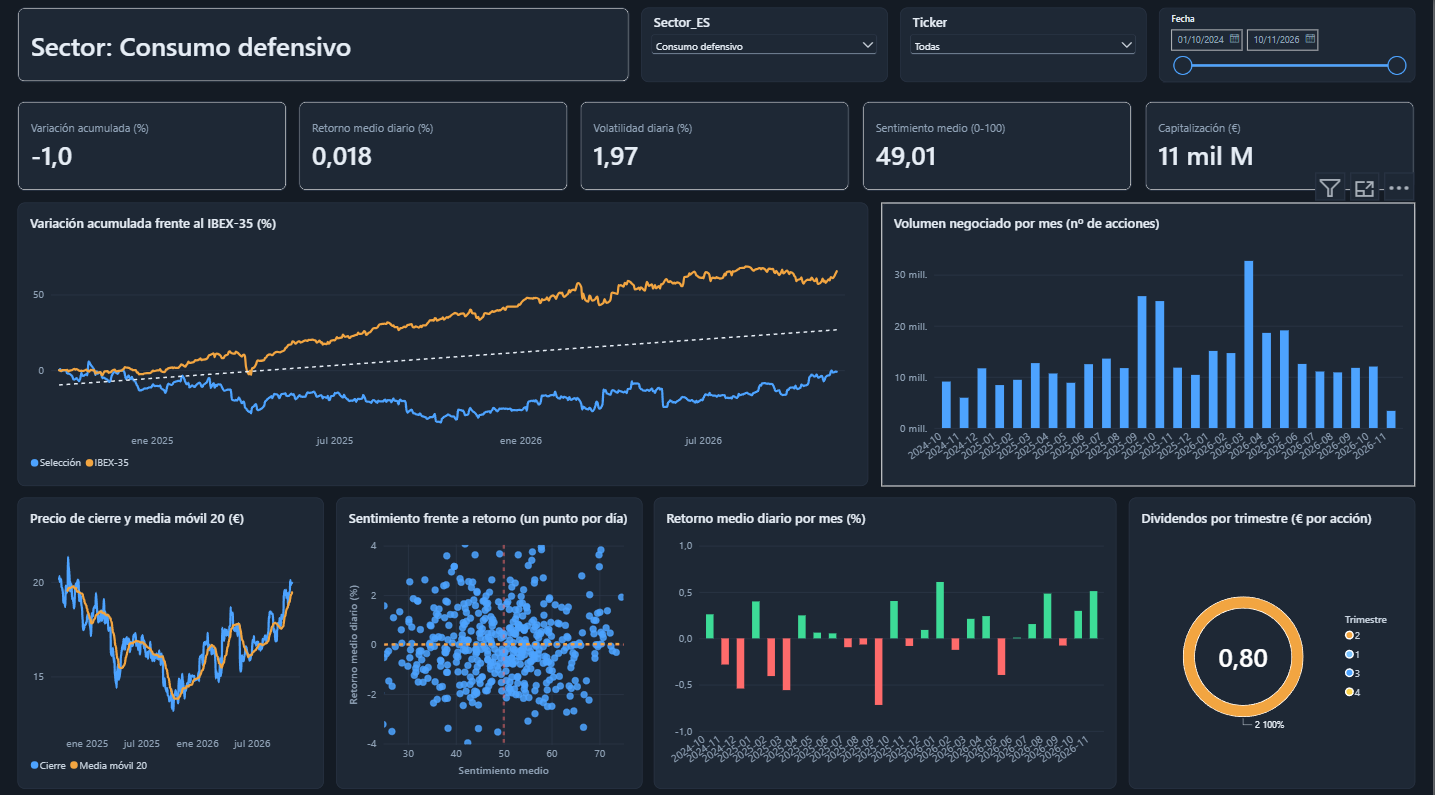

This screenshot's page, from the dashboard's own definition file:
{"tool":"powerbi","page":{"name":"Dashboard","canvas":[1920,1080],"ordinal":3},"visuals":[{"type":"slicer","fields":{"Values":["Empresa.Sector_ES"]},"box":[753.5,31.4,280.8,68],"z":0},{"type":"slicer","fields":{"Values":["Empresa.Ticker"]},"box":[1055.2,26.2,280.8,80.2],"z":1000},{"type":"slicer","fields":{"Values":["Fecha.Fecha"]},"box":[1360.5,19.2,280.8,95.9],"z":2000},{"type":"cardVisual","fields":{"Data":["Hechos.Variacion Acumulada"]},"box":[36.6,115.1,218,174.4],"z":3000},{"type":"cardVisual","fields":{"Data":["Hechos.Retorno Medio Diario"]},"box":[375,115.1,218,174.4],"z":4000},{"type":"cardVisual","fields":{"Data":["Hechos.Volatilidad Diaria"]},"box":[741.3,115.1,218,174.4],"z":5000},{"type":"cardVisual","fields":{"Data":["Hechos.Sentimiento Medio"]},"box":[1088.4,115.1,218,174.4],"z":6000},{"type":"cardVisual","fields":{"Data":["Hechos.Capitalizacion Total"]},"box":[1447.7,115.1,218,174.4],"z":7000},{"type":"lineChart","fields":{"Category":["Fecha.Fecha"],"Y":["Hechos.Var Acum Seleccion","Hechos.Var Acum IBEX"]},"box":[43.6,314,1058.7,376.7],"z":8000},{"type":"clusteredColumnChart","fields":{"Category":["Fecha.AnioMes"],"Y":["Sum(Hechos.Volume)"]},"box":[1133.7,314,736,376.7],"z":9000},{"type":"lineChart","fields":{"Category":["Fecha.Fecha"],"Y":["Avg(Hechos.Close)","Avg(Hechos.Media_Movil_20)"]},"box":[66.3,711.6,395.9,322.7],"z":10000},{"type":"scatterChart","fields":{"Category":["Fecha.Fecha"],"X":["Hechos.Sentimiento Medio"],"Y":["Hechos.Retorno Medio Diario"]},"box":[462.2,711.6,444.8,322.7],"z":11000},{"type":"clusteredColumnChart","fields":{"Category":["Fecha.AnioMes"],"Y":["Hechos.Retorno Medio Diario"]},"box":[907,711.6,610.5,322.7],"z":12000},{"type":"donutChart","fields":{"Category":["Fecha.Trimestre"],"Y":["Sum(Hechos.Dividends)"]},"box":[1517.4,711.6,385.5,322.7],"z":13000},{"type":"cardVisual","fields":{"Data":["Hechos.Titulo Dashboard"]},"box":[66.3,19.2,556.4,75],"z":13001}]}

Visuals, with their boxes in screenshot pixels (x1, y1, x2, y2), scaled from the page's 1920x1080 canvas onto the 1435x795 screenshot:
slicer - Empresa.Sector_ES: Rect(563, 23, 773, 73)
slicer - Empresa.Ticker: Rect(789, 19, 999, 78)
slicer - Fecha.Fecha: Rect(1017, 14, 1227, 85)
cardVisual - Hechos.Variacion Acumulada: Rect(27, 85, 190, 213)
cardVisual - Hechos.Retorno Medio Diario: Rect(280, 85, 443, 213)
cardVisual - Hechos.Volatilidad Diaria: Rect(554, 85, 717, 213)
cardVisual - Hechos.Sentimiento Medio: Rect(813, 85, 976, 213)
cardVisual - Hechos.Capitalizacion Total: Rect(1082, 85, 1245, 213)
lineChart - Fecha.Fecha x Hechos.Var Acum Seleccion: Rect(33, 231, 824, 508)
clusteredColumnChart - Fecha.AnioMes x Sum(Hechos.Volume): Rect(847, 231, 1397, 508)
lineChart - Fecha.Fecha x Avg(Hechos.Close): Rect(50, 524, 345, 761)
scatterChart - Fecha.Fecha x Hechos.Sentimiento Medio: Rect(345, 524, 678, 761)
clusteredColumnChart - Fecha.AnioMes x Hechos.Retorno Medio Diario: Rect(678, 524, 1134, 761)
donutChart - Fecha.Trimestre x Sum(Hechos.Dividends): Rect(1134, 524, 1422, 761)
cardVisual - Hechos.Titulo Dashboard: Rect(50, 14, 465, 69)
